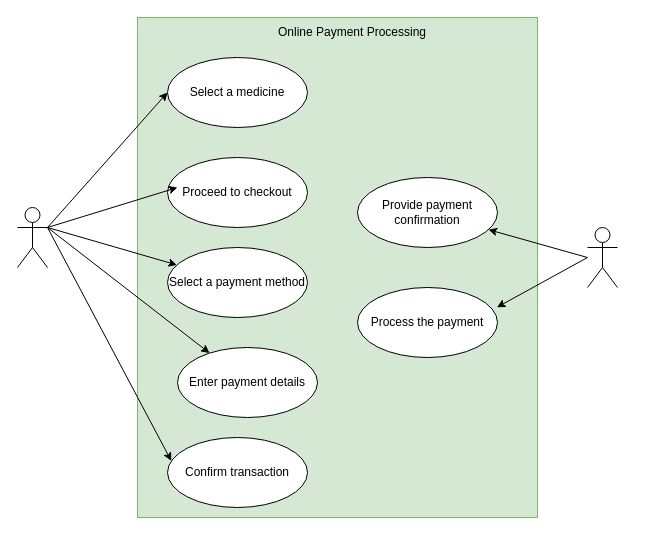
The diagram is 669 pixels wide and 535 high, and some of its shapes have lost their labels. The shapes that lost their labels are listed below. From the top down, each one's centre as x and y in pixels, then its label:
point 32,237: User
point 602,257: Payment Gateway
